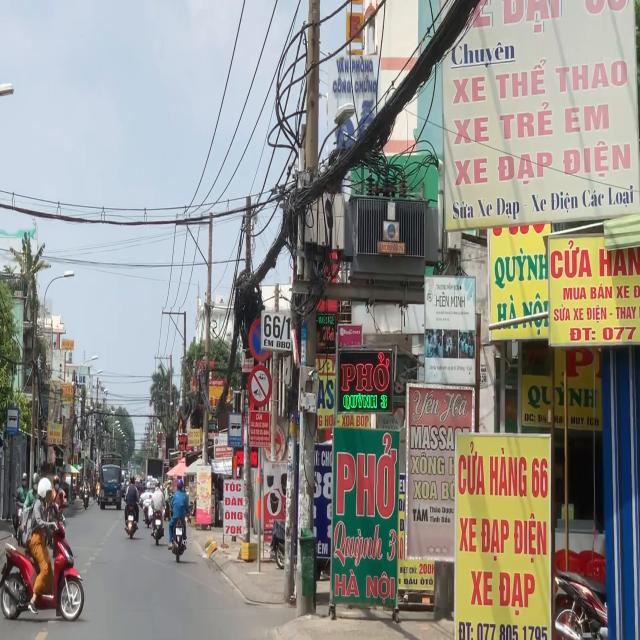Cam con lai: (247, 363, 273, 409)
Cam do: (249, 317, 274, 364)
Hieu lenh: (227, 410, 243, 449), (6, 405, 20, 436)
